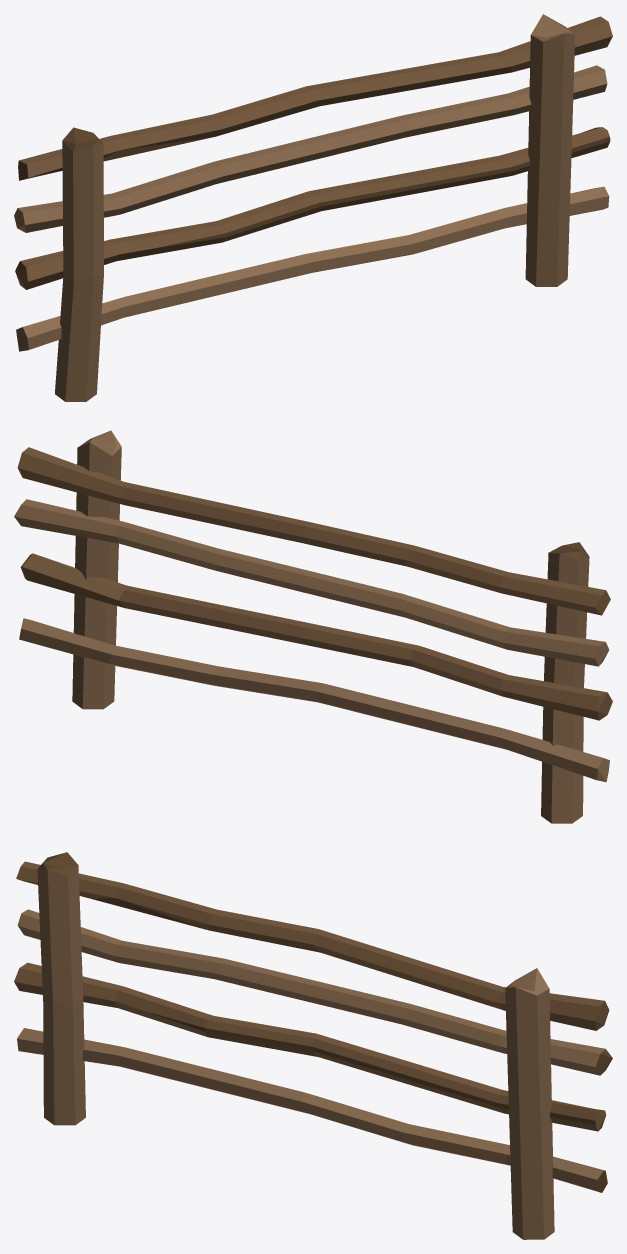
File: EM_wood_fence3.fbx
3 renders of one model, top to bottom at view 1: azimuth 30°, elevation 25°; view 2: azimuth 150°, elevation 25°; view 3: azimuth 330°, elevation 25°, orthographic.
Parts seen in each view (by area): view 1: EM_wood_fence3_LOD0; view 2: EM_wood_fence3_LOD0; view 3: EM_wood_fence3_LOD0.
Part boxes in pixels (left/top/right/bottom): EM_wood_fence3_LOD0: left=14, top=14, right=612, bottom=401; EM_wood_fence3_LOD0: left=14, top=430, right=612, bottom=823; EM_wood_fence3_LOD0: left=14, top=852, right=612, bottom=1239.
Size of what is drawn, in the model's own units: 2.67 by 1.15 by 0.2606.
